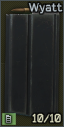Remington M700 .308 Wyatts Outdoor 10-round magazine: (0, 0, 64, 127)
